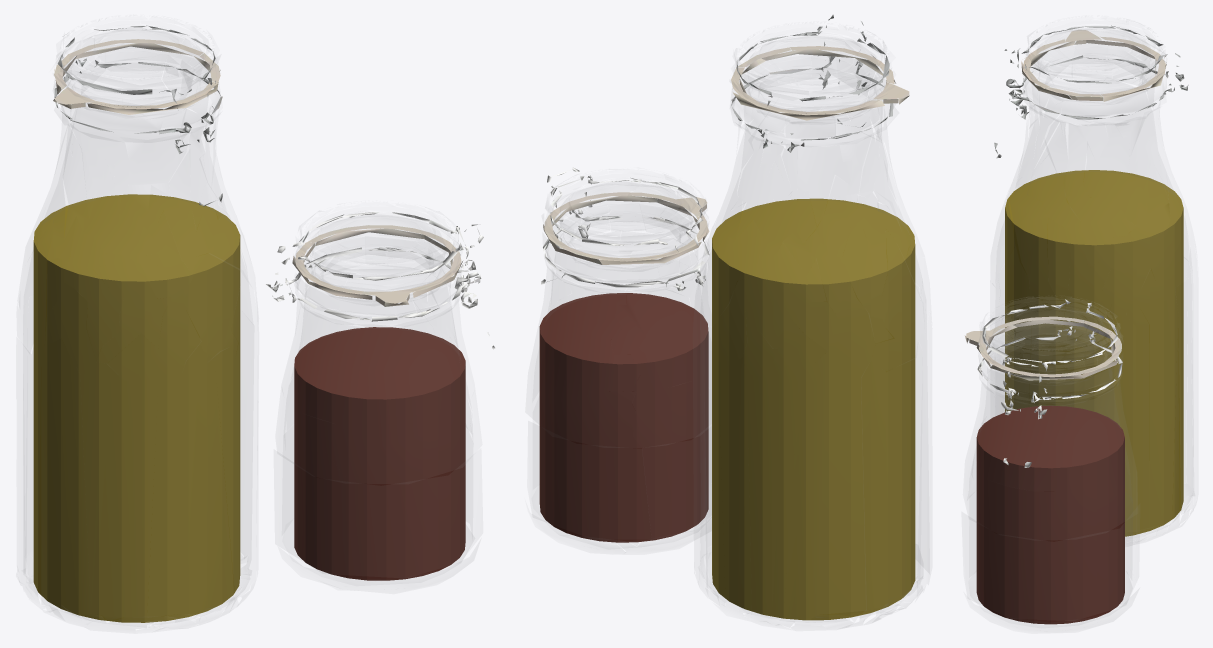
3 renders of one model, left to right at view 1: azimuth 30°, elevation 25°; view 2: azimuth 150°, elevation 25°; view 3: azimuth 270°, elevation 25°, orthographic. The views are drawn at different scales.
Visible parts, largest first — view 1: korken-bottle-1l_oil, korken-bottle-04l_vinegar, korken-bottle-1l.001, korken-bottle-04l.001; view 2: korken-bottle-1l_oil, korken-bottle-04l_vinegar, korken-bottle-1l.001, korken-bottle-04l.001; view 3: korken-bottle-1l_oil, korken-bottle-04l_vinegar, korken-bottle-1l.001, korken-bottle-04l.001.
Part boxes in pixels (x1,y1,x2,y2): korken-bottle-1l_oil: (33,194,240,622); korken-bottle-04l_vinegar: (294,327,465,580); korken-bottle-1l.001: (17,24,257,630); korken-bottle-04l.001: (266,211,494,589); korken-bottle-1l_oil: (712,198,915,620); korken-bottle-04l_vinegar: (539,293,708,542); korken-bottle-1l.001: (698,14,929,628); korken-bottle-04l.001: (531,167,711,552); korken-bottle-1l_oil: (1005,170,1183,536); korken-bottle-04l_vinegar: (976,405,1124,624); korken-bottle-1l.001: (992,17,1194,541); korken-bottle-04l.001: (964,297,1137,627).
Bounding box in the file's own units: 0.1928 × 0.2411 × 0.1094.
Materials: 6 (2 with a texture image).
